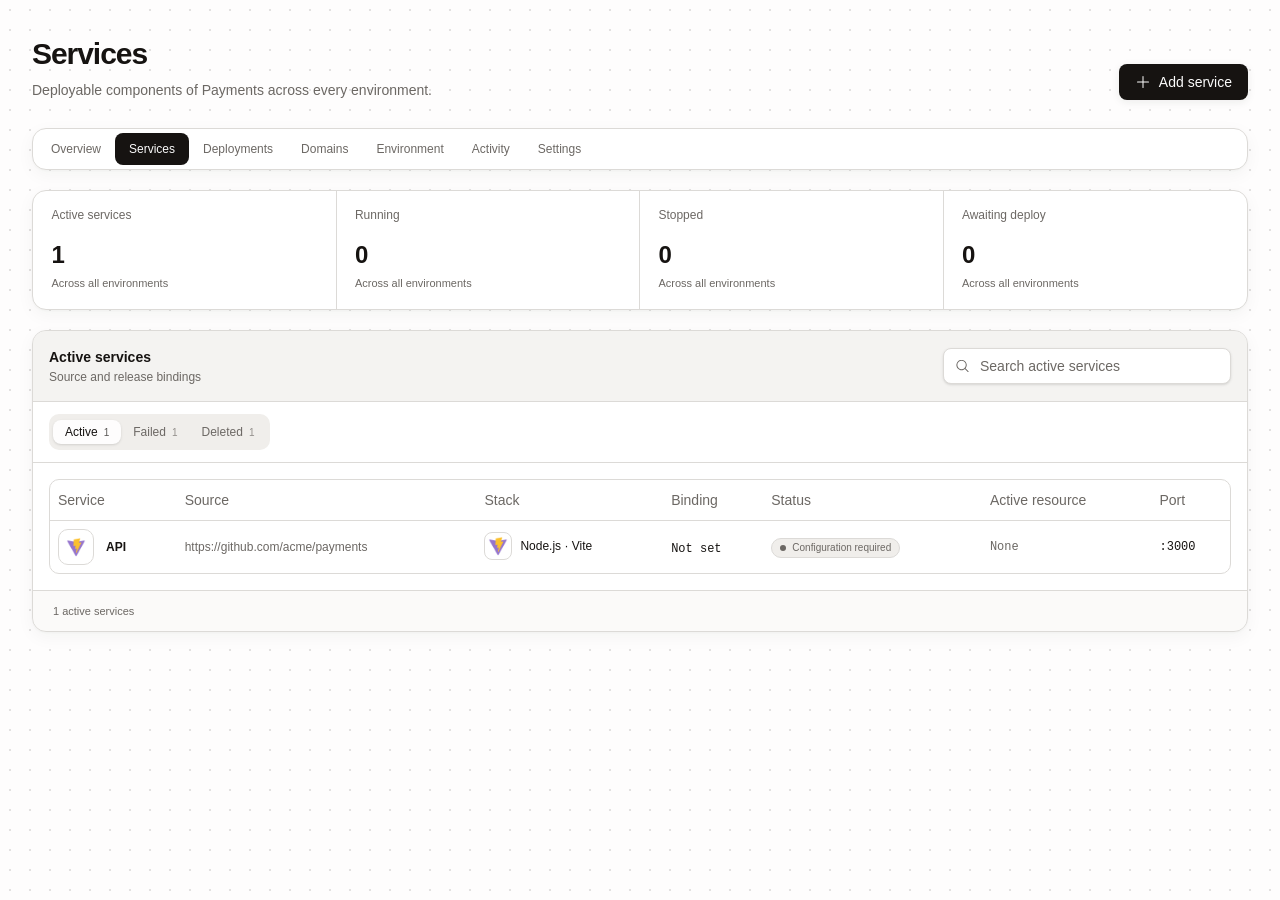
Scenario: services list › separates retained databases from active services
The width and height of the screenshot is (1280, 900).
Expected: the link "API" is shown, [58,529,126,565]
Expected: the link "Failed MySQL" is not shown
Click the tab "Failed 1" at {"x": 155, "y": 432}, box [121,420,190,444]
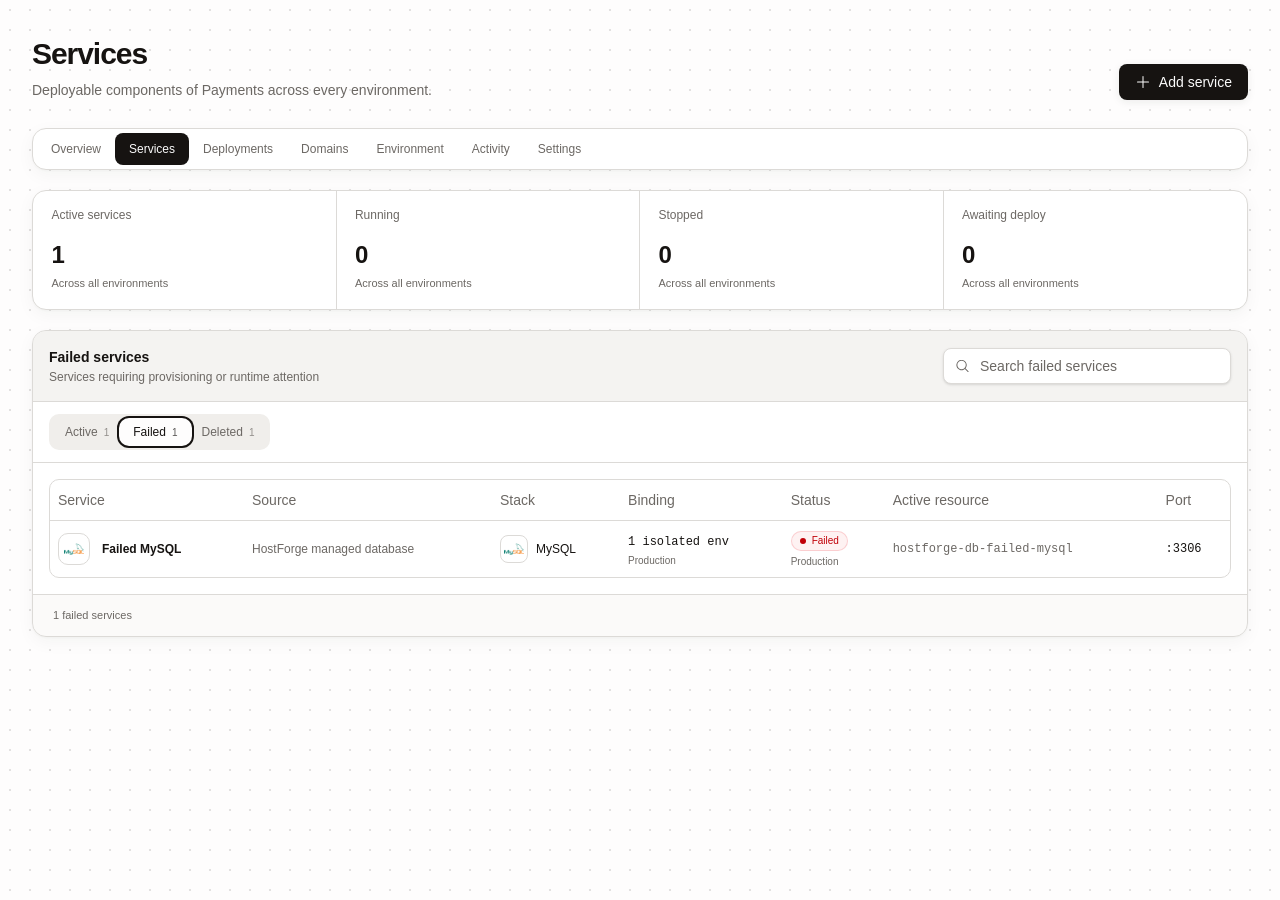
Result: the link "Failed MySQL" is shown at [58,533,181,565]
Result: the link "API" is gone
Result: the heading "Failed services" is shown at [49,349,149,365]
Click the tab "Deleted 1" at {"x": 228, "y": 432}, box [190,420,266,444]
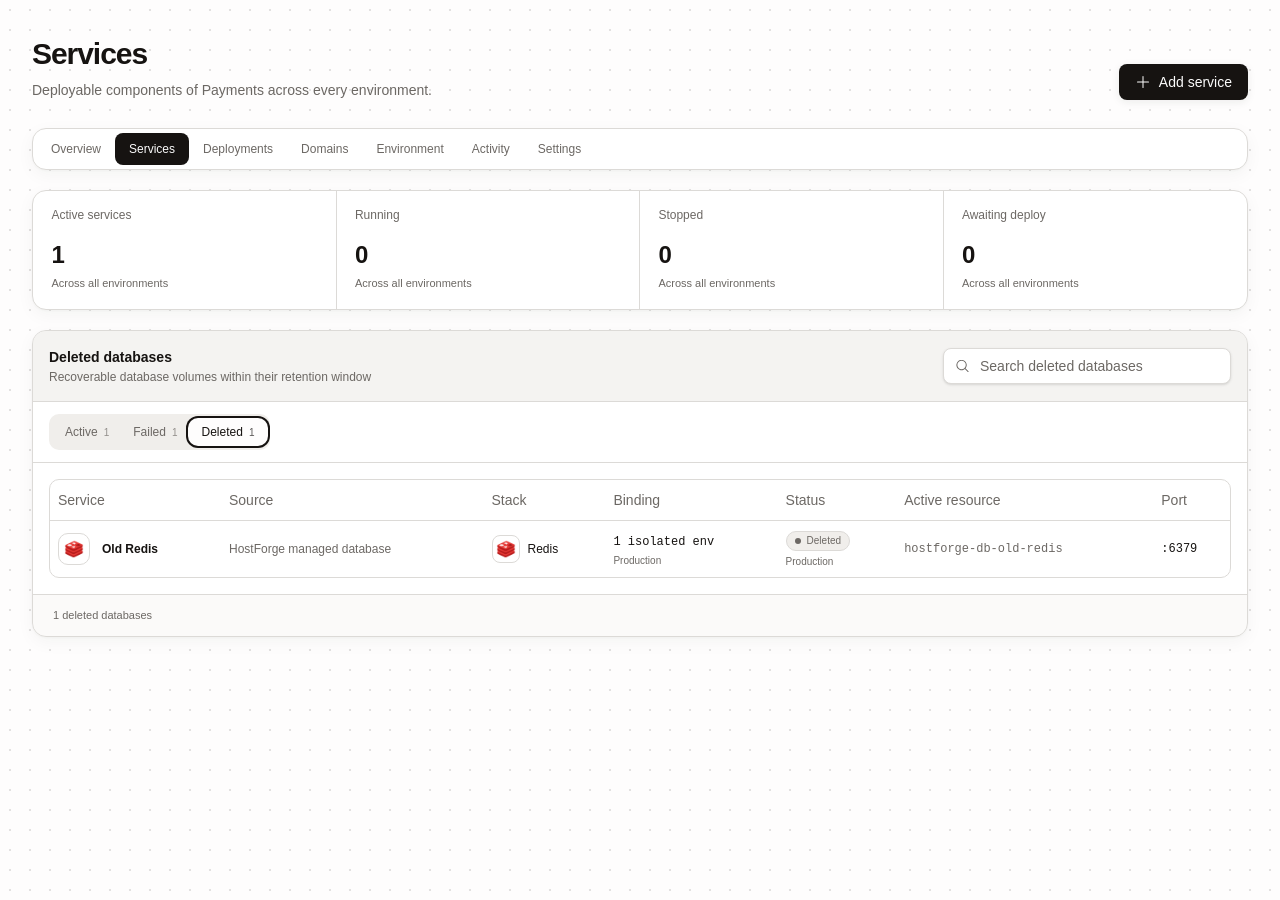
Result: the link "Old Redis" is shown at [58,533,158,565]
Result: the link "Failed MySQL" is gone
Result: the heading "Deleted databases" is shown at [49,349,172,365]
